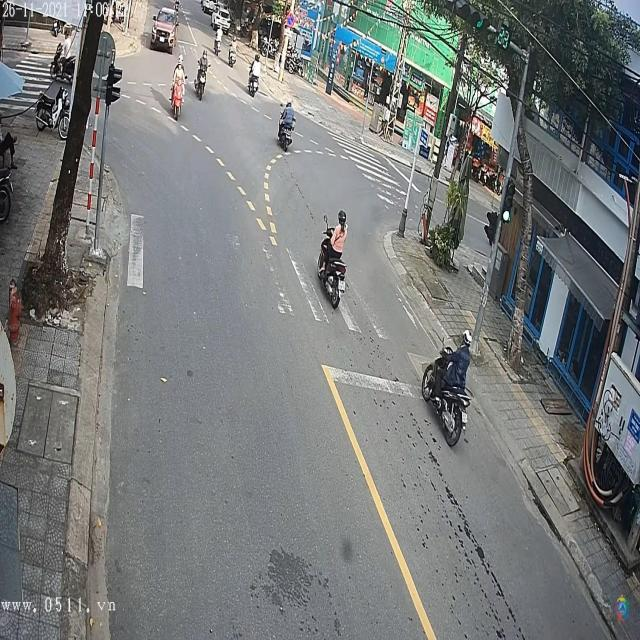car: (149, 8, 179, 52)
motorcycle: (420, 336, 472, 449), (316, 254, 346, 310), (170, 70, 188, 126), (193, 64, 207, 101), (247, 65, 261, 100), (277, 125, 292, 152)
